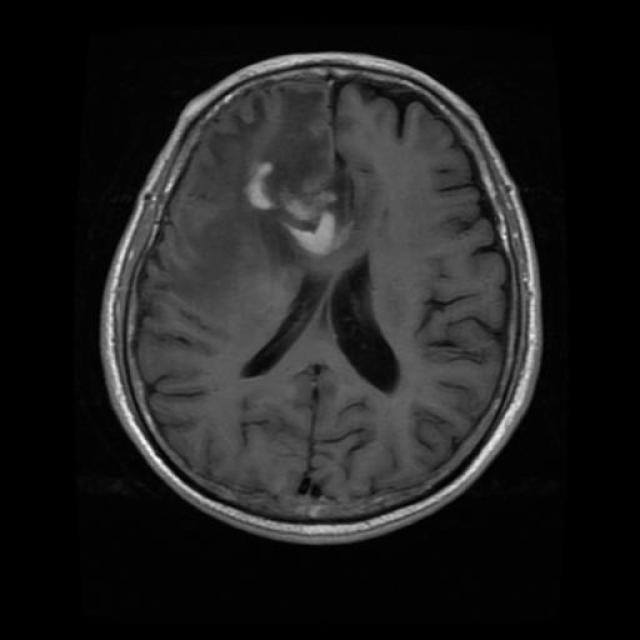brain_tumor: (282, 211, 336, 254), (245, 161, 275, 209)
